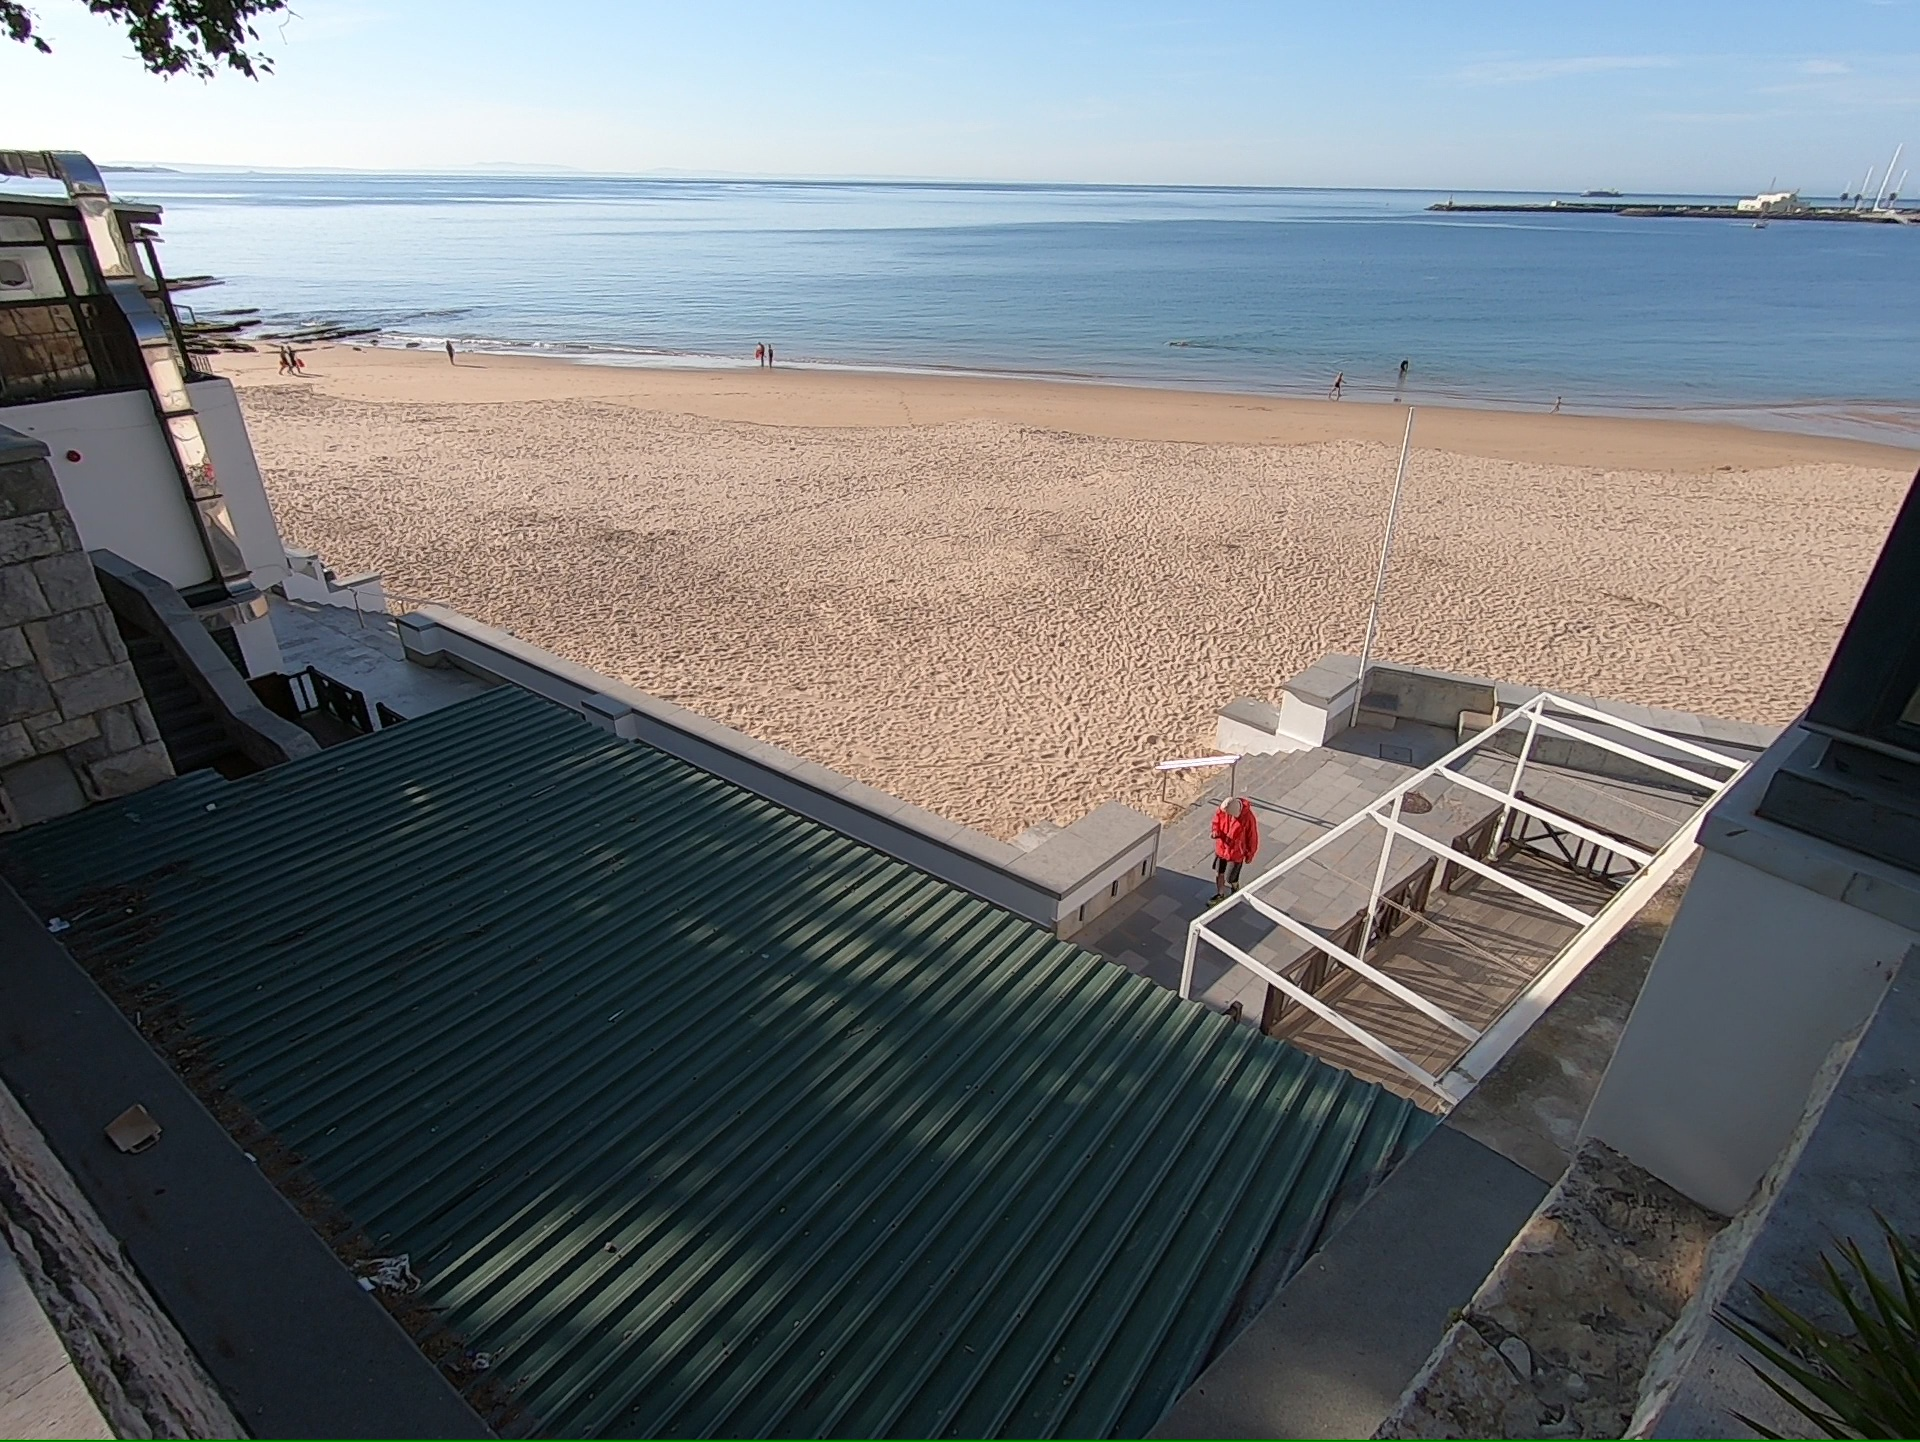person: (1205, 794, 1254, 879), (1328, 369, 1349, 400), (276, 343, 290, 378), (444, 337, 457, 367), (1550, 395, 1565, 415), (754, 340, 765, 367), (765, 343, 774, 371), (1397, 356, 1410, 373)
